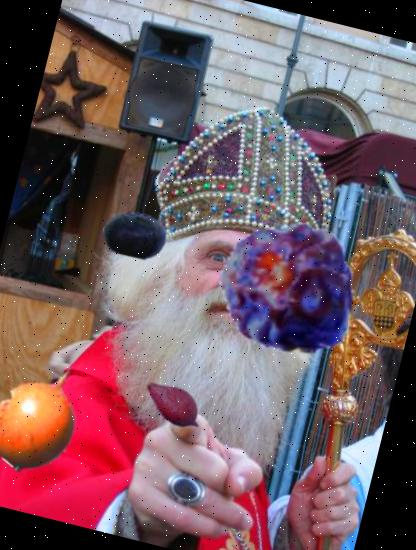Blueberry: (96, 195, 174, 274)
Dates: (204, 205, 370, 371)
Granadilla: (0, 347, 109, 486)
Salak: (132, 362, 216, 446)
